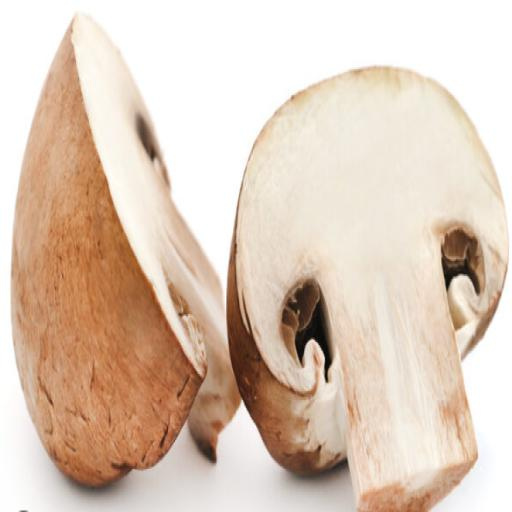Button Mushroom: (228, 56, 512, 509), (3, 2, 229, 493)
